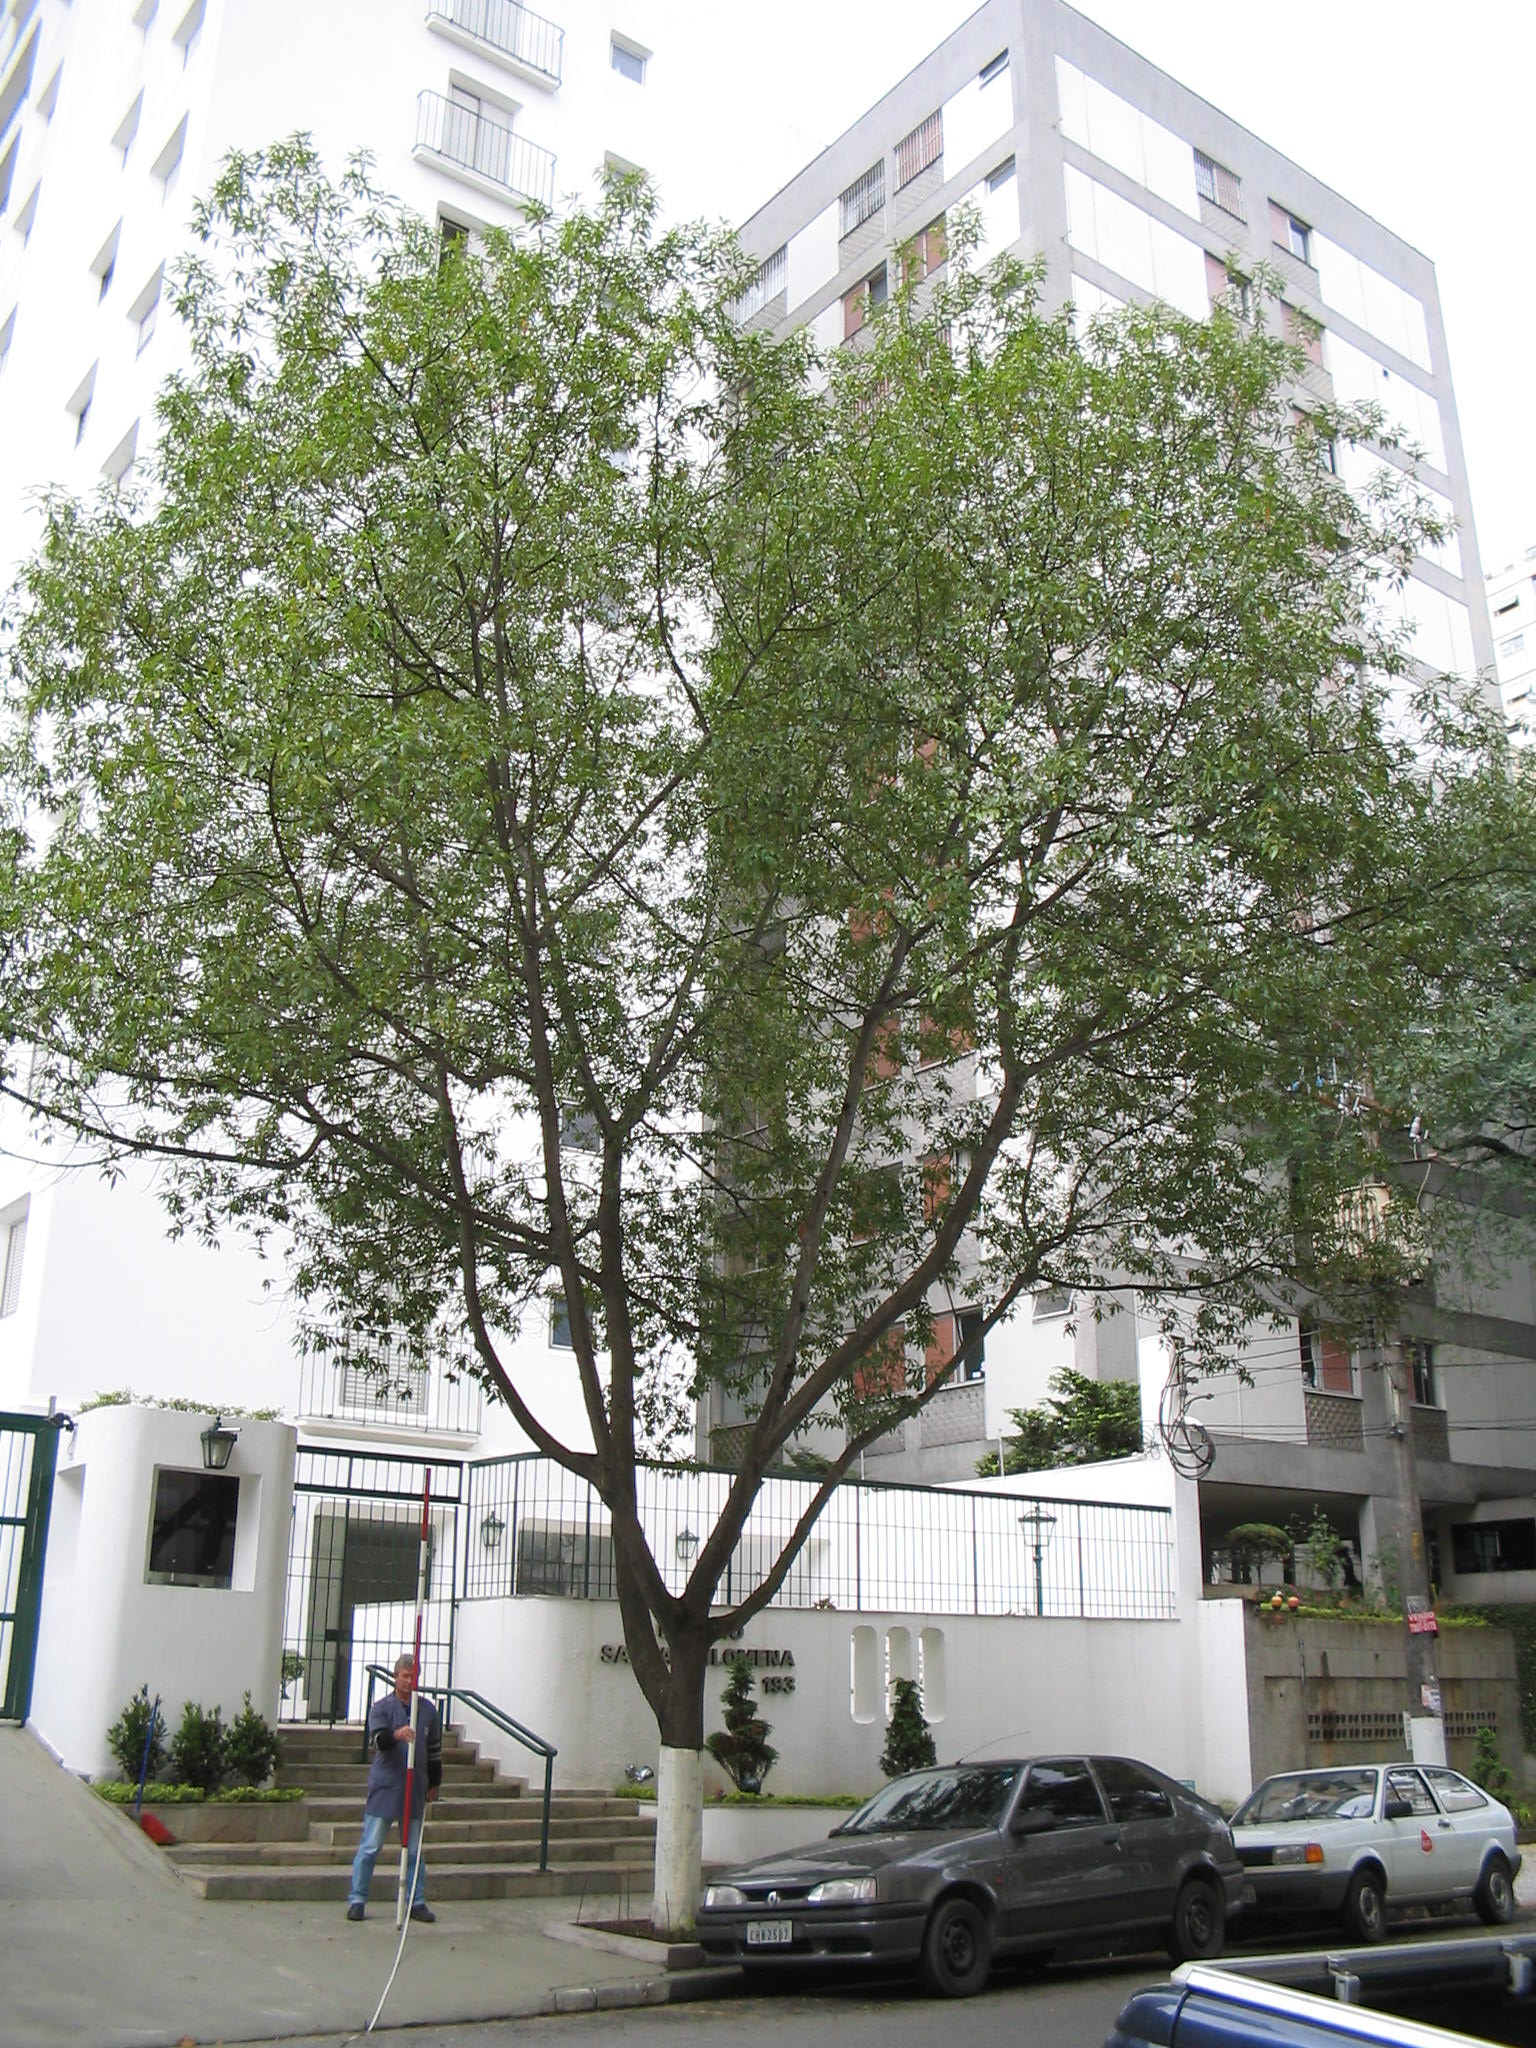crown: (11, 140, 1530, 1451)
stem: (600, 1611, 741, 1927)
stick: (387, 1447, 437, 1932)
tree: (6, 135, 1536, 1932)
